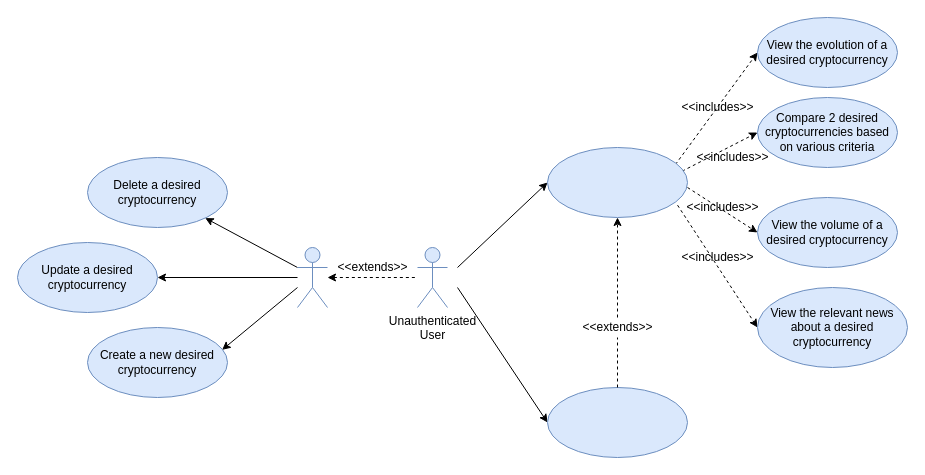
The diagram is 925 pixels wide and 475 high, and some of its shapes have lost their labels. The shapes that lost their labels are listed below. From the top down, each one's centre as x and y in pixels, then its label:
At pixel 617 182: "Visualize the list of the existing cryptocurrencies".
At pixel 312 277: "Admin".
At pixel 617 422: "Export the data in the desired format".
